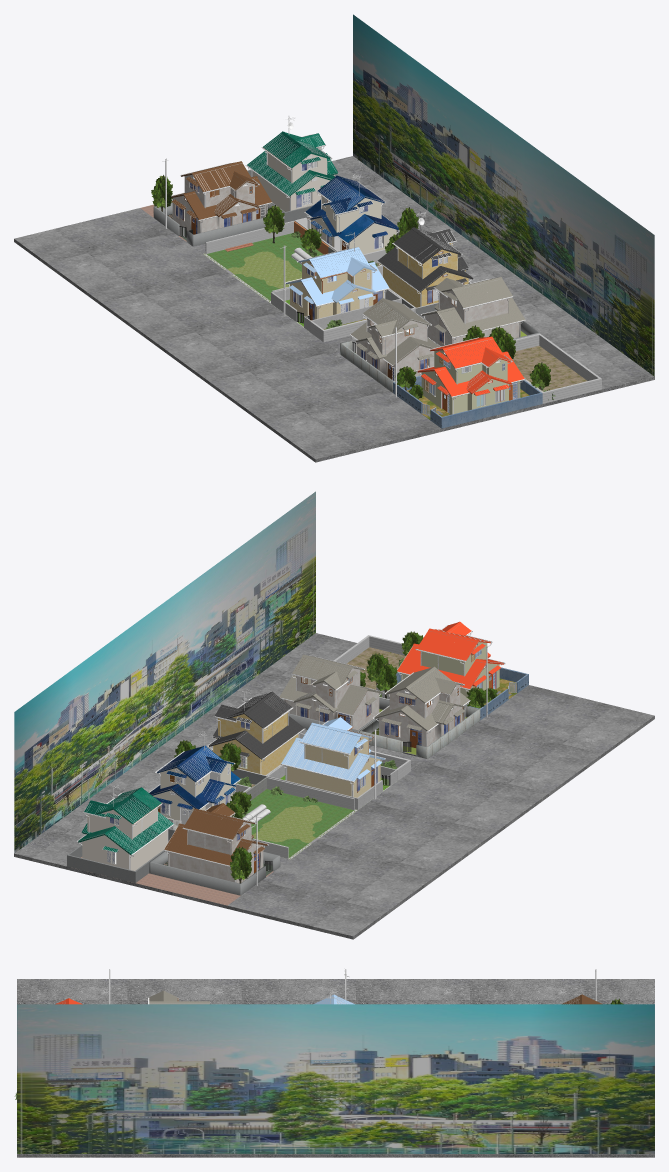
File: MapDoremon.glb
The picture shows the model from 3 angles, top to bottom: view 1: azimuth 30°, elevation 25°; view 2: azimuth 150°, elevation 25°; view 3: azimuth 270°, elevation 25°; orthographic projection. The views are drawn at different scales.
Visible parts, largest first — view 1: 3DGeom-37_57, 3DGeom-26_45, 3DGeom-39_59, 3DGeom-34_54, 3DGeom-185_326, 3DGeom-169_301, 3DGeom-79_112, 3DGeom-58_86, 3DGeom-21_38, 3DGeom-17_31, 3DGeom-14_28, 3DGeom-205_400 (+32 smaller); view 2: 3DGeom-37_57, 3DGeom-26_45, 3DGeom-58_86, 3DGeom-34_54, 3DGeom-79_112, 3DGeom-21_406, 3DGeom-2_13, 3DGeom-21_369, 3DGeom-10_21, 3DGeom-75_108, 3DGeom-55_83, 3DGeom-216_380 (+34 smaller); view 3: 3DGeom-26_45, 3DGeom-37_57, 3DGeom-34_54, 3DGeom-216_380.
Part boxes in pixels (bbox=[...]): 3DGeom-37_57: bbox=[14, 156, 654, 459]; 3DGeom-26_45: bbox=[353, 14, 654, 376]; 3DGeom-39_59: bbox=[310, 308, 601, 403]; 3DGeom-34_54: bbox=[14, 239, 654, 462]; 3DGeom-185_326: bbox=[421, 350, 518, 414]; 3DGeom-169_301: bbox=[393, 375, 542, 428]; 3DGeom-79_112: bbox=[207, 233, 323, 300]; 3DGeom-58_86: bbox=[153, 170, 470, 317]; 3DGeom-21_38: bbox=[172, 174, 265, 233]; 3DGeom-17_31: bbox=[311, 196, 396, 254]; 3DGeom-14_28: bbox=[290, 260, 383, 319]; 3DGeom-205_400: bbox=[424, 279, 525, 336]; 3DGeom-37_57: bbox=[14, 633, 654, 936]; 3DGeom-26_45: bbox=[14, 491, 315, 853]; 3DGeom-58_86: bbox=[67, 750, 280, 895]; 3DGeom-34_54: bbox=[14, 716, 654, 939]; 3DGeom-79_112: bbox=[242, 789, 353, 857]; 3DGeom-21_406: bbox=[286, 668, 379, 729]; 3DGeom-2_13: bbox=[78, 693, 369, 869]; 3DGeom-21_369: bbox=[379, 684, 462, 746]; 3DGeom-10_21: bbox=[283, 725, 380, 781]; 3DGeom-75_108: bbox=[253, 805, 322, 842]; 3DGeom-55_83: bbox=[76, 733, 304, 869]; 3DGeom-216_380: bbox=[374, 666, 465, 731]; 3DGeom-26_45: bbox=[17, 1004, 654, 1153]; 3DGeom-37_57: bbox=[17, 979, 654, 1154]; 3DGeom-34_54: bbox=[17, 1154, 654, 1157]; 3DGeom-216_380: bbox=[149, 990, 209, 1004].
Size of the model in its own units: 38.2 by 15.58 by 59.06.
64 materials, 53 textured.
